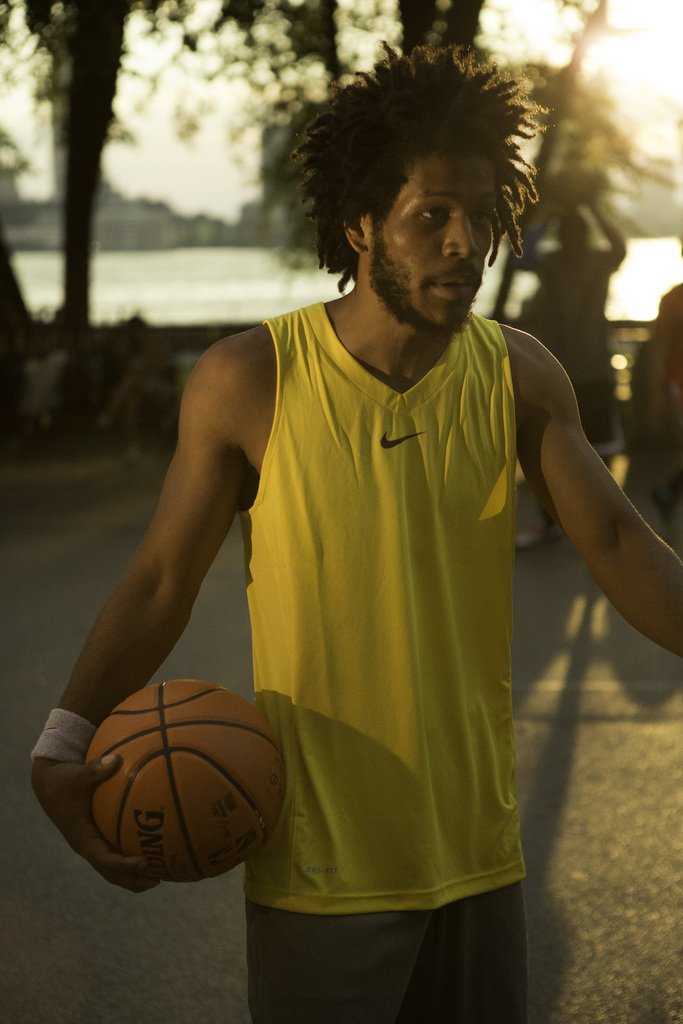Ball: (87, 680, 282, 885)
